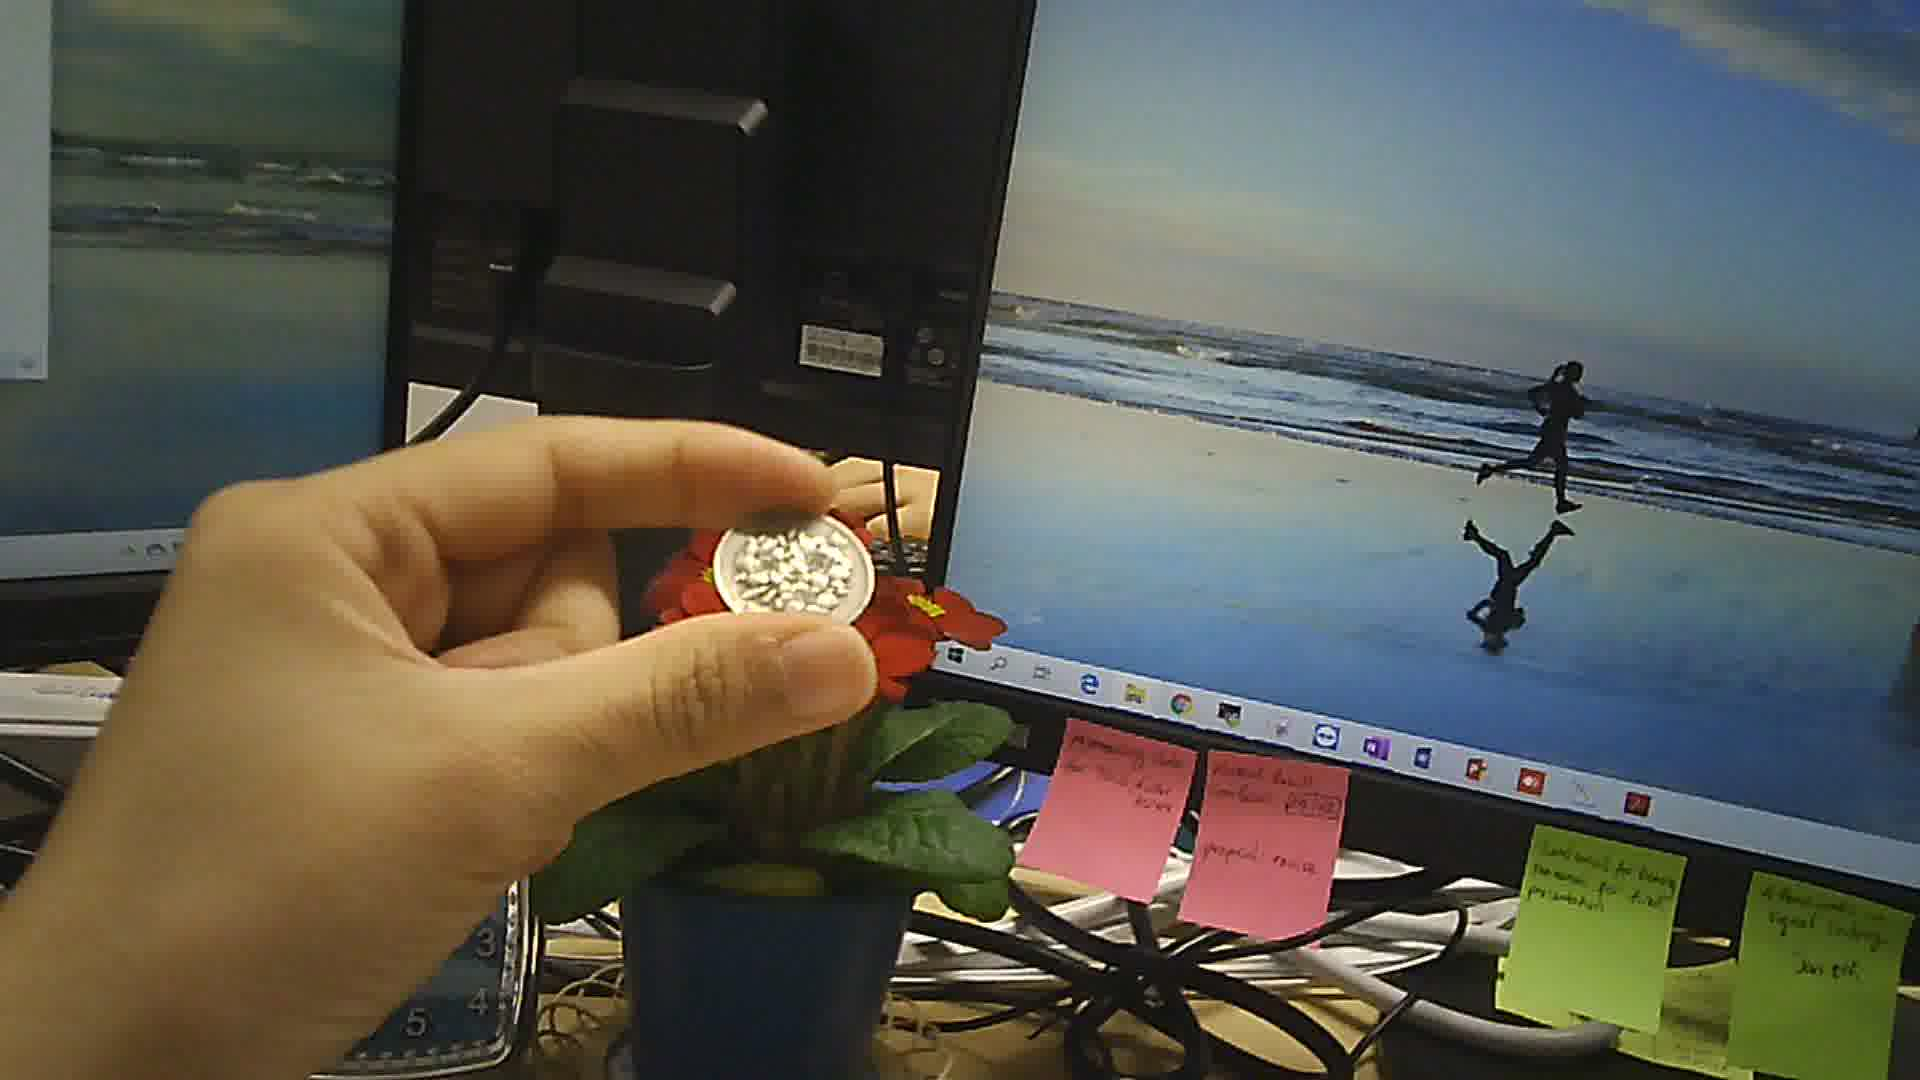100 Yen: (707, 493, 876, 626)
